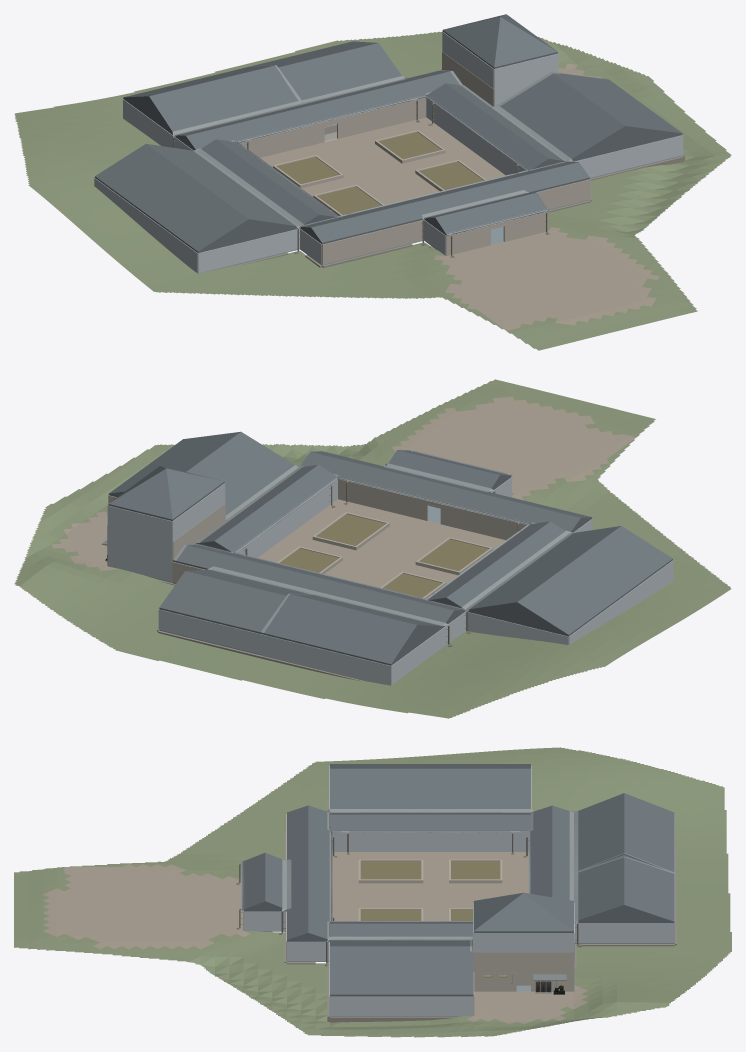
File: monastery-with-vertical-distribution.glb
The picture shows the model from 3 angles, top to bottom: view 1: azimuth 30°, elevation 25°; view 2: azimuth 150°, elevation 25°; view 3: azimuth 270°, elevation 25°; orthographic projection. The views are drawn at different scales.
Visible parts, largest first — view 1: WLD-10 saved ground, dormitory roof west, refectory roof west, archive roof south, south-cloister roof south, north-cloister roof south, vestry roof south, dormitory roof east, east-cloister roof west, refectory roof east, west-cloister roof west, Monastery shared gatehouse and south cloister wall inner gat (+32 smaller); view 2: WLD-10 saved ground, dormitory roof west, archive roof north, south-cloister roof north, vestry roof north, north-cloister roof north, refectory roof west, dormitory roof east, east-cloister roof west, Wall archive N, Wall tower-base N, west-cloister roof west (+33 smaller); view 3: WLD-10 saved ground, dormitory roof east, refectory roof east, Wall west E, west-cloister roof east, archive roof north, archive roof south, Wall refectory E, south-cloister roof north, south-cloister roof south, vestry roof north, vestry roof south (+27 smaller).
Boxes of the visible parts, x1=… form: WLD-10 saved ground: x1=14, y1=31, x2=731, y2=350; dormitory roof west: x1=95, y1=144, x2=248, y2=252; refectory roof west: x1=500, y1=73, x2=625, y2=159; archive roof south: x1=149, y1=65, x2=297, y2=132; south-cloister roof south: x1=311, y1=162, x2=589, y2=244; north-cloister roof south: x1=186, y1=71, x2=459, y2=149; vestry roof south: x1=278, y1=43, x2=401, y2=100; dormitory roof east: x1=146, y1=143, x2=296, y2=227; east-cloister roof west: x1=427, y1=83, x2=548, y2=170; refectory roof east: x1=554, y1=73, x2=682, y2=134; west-cloister roof west: x1=201, y1=139, x2=319, y2=225; Monastery shared gatehouse and south cloister wall inner gat: x1=322, y1=220, x2=422, y2=264; WLD-10 saved ground: x1=14, y1=379, x2=731, y2=718; dormitory roof west: x1=517, y1=526, x2=672, y2=636; archive roof north: x1=262, y1=594, x2=417, y2=665; south-cloister roof north: x1=300, y1=452, x2=580, y2=532; vestry roof north: x1=159, y1=571, x2=286, y2=633; north-cloister roof north: x1=172, y1=545, x2=454, y2=626; refectory roof west: x1=186, y1=432, x2=294, y2=515; dormitory roof east: x1=469, y1=526, x2=620, y2=610; east-cloister roof west: x1=214, y1=465, x2=337, y2=552; Wall archive N: x1=262, y1=634, x2=391, y2=685; Wall tower-base N: x1=108, y1=526, x2=172, y2=581; west-cloister roof west: x1=446, y1=521, x2=565, y2=608; WLD-10 saved ground: x1=14, y1=747, x2=731, y2=1037; dormitory roof east: x1=330, y1=768, x2=530, y2=808; refectory roof east: x1=330, y1=946, x2=473, y2=995; Wall west E: x1=332, y1=832, x2=528, y2=851; west-cloister roof east: x1=330, y1=814, x2=530, y2=832; archive roof north: x1=624, y1=793, x2=674, y2=872; archive roof south: x1=578, y1=793, x2=624, y2=870; Wall refectory E: x1=330, y1=996, x2=473, y2=1015; south-cloister roof north: x1=308, y1=805, x2=329, y2=941; south-cloister roof south: x1=287, y1=805, x2=308, y2=941; vestry roof north: x1=624, y1=857, x2=674, y2=922; vestry roof south: x1=578, y1=857, x2=624, y2=921.
Bounding box in the file's own units: 92 × 16 × 100.
Materials: 84 (45 with a texture image).
